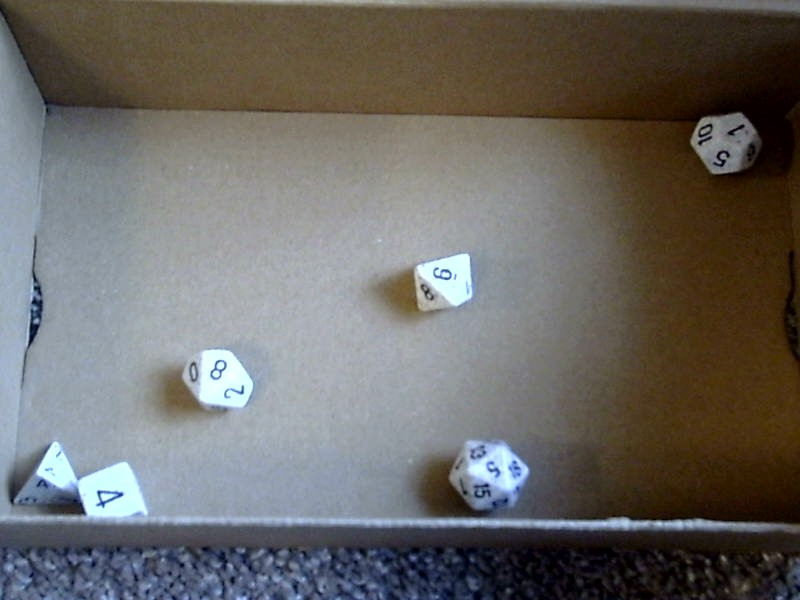d10 8: (172, 344, 265, 418)
d12 1: (686, 109, 766, 180)
d20 5: (444, 429, 534, 520)
d4 4: (10, 437, 80, 508)
d6 4: (77, 459, 155, 521)
d8 6: (405, 243, 484, 319)
